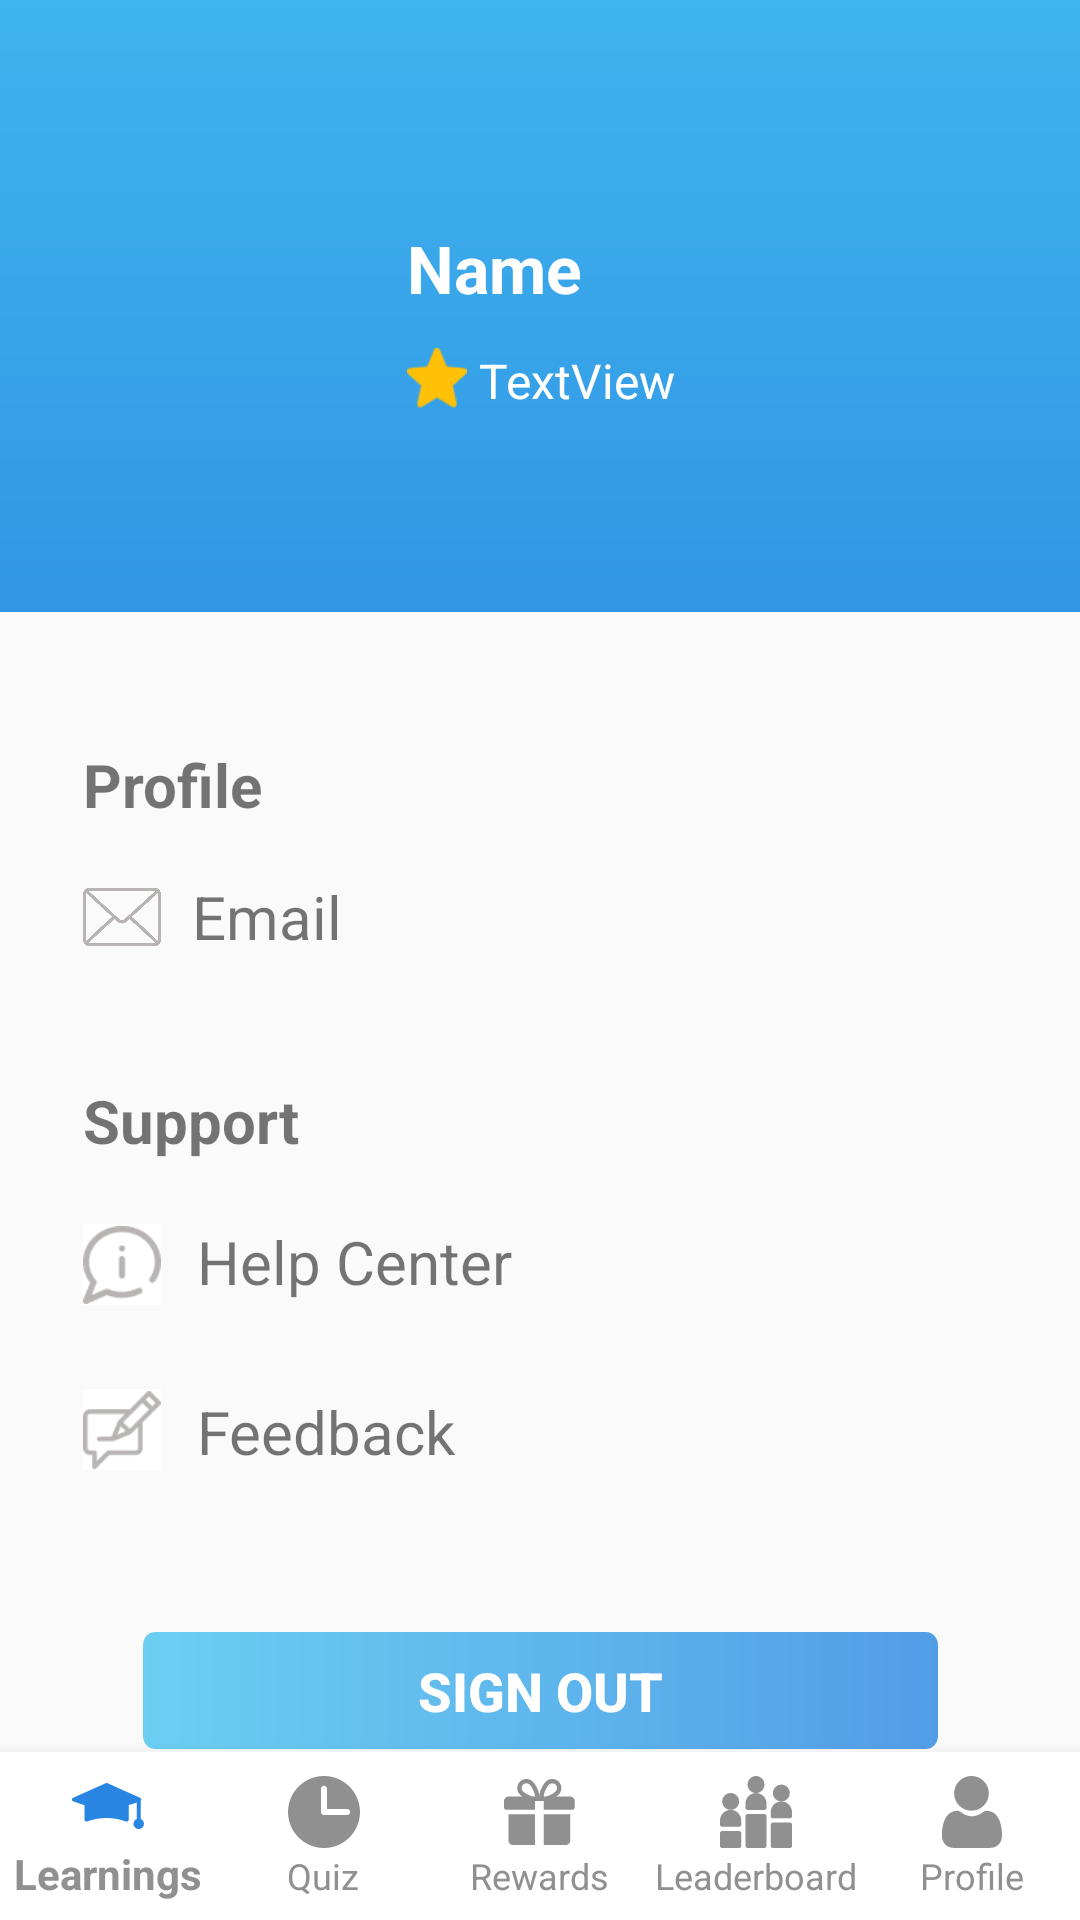

Screen size 1080*1920. Icon name, then its box in pixels as [x1, y1, x2, y2]:
info: [83, 1226, 161, 1304]
star: [407, 348, 467, 408]
